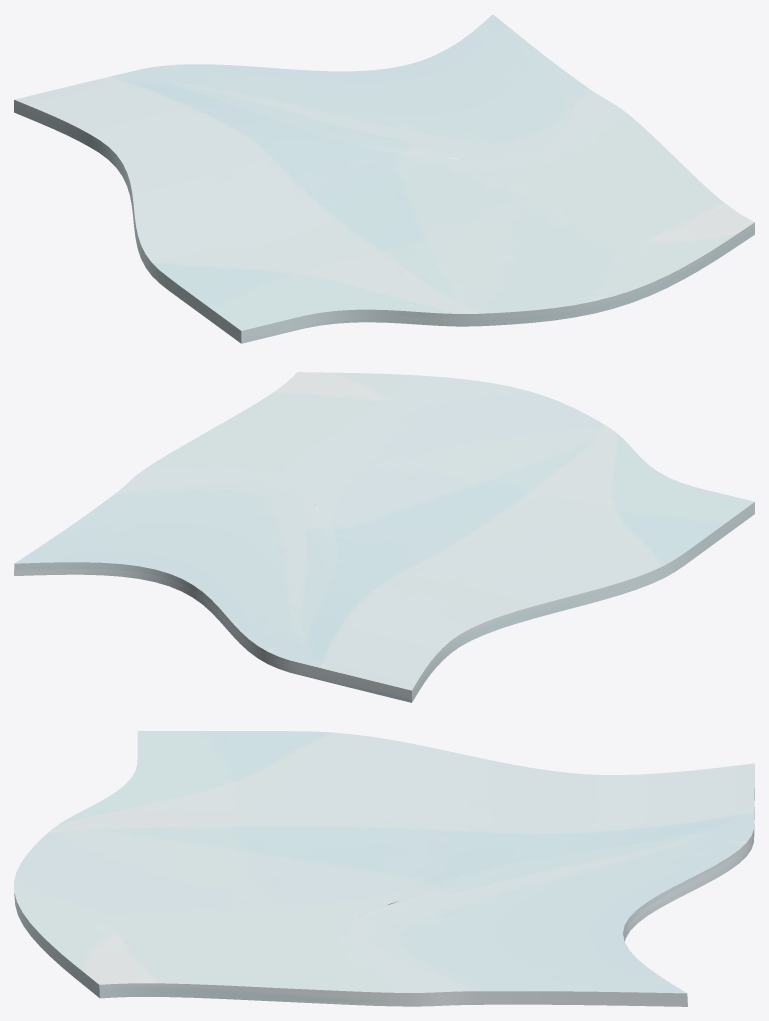
File: ice_sheet3.obj
3 views of the same model, one above another, from view 1: azimuth 30°, elevation 25°; view 2: azimuth 150°, elevation 25°; view 3: azimuth 270°, elevation 25° (orthographic). The views are drawn at different scales.
Parts seen in each view (by area): view 1: pCube7; view 2: pCube7; view 3: pCube7.
Part boxes in pixels (x1,y1,x2,y2): pCube7: [14, 14, 754, 343]; pCube7: [14, 372, 754, 702]; pCube7: [14, 731, 754, 1006].
Size of the model in its own units: 3.32 by 0.0867 by 3.94.
